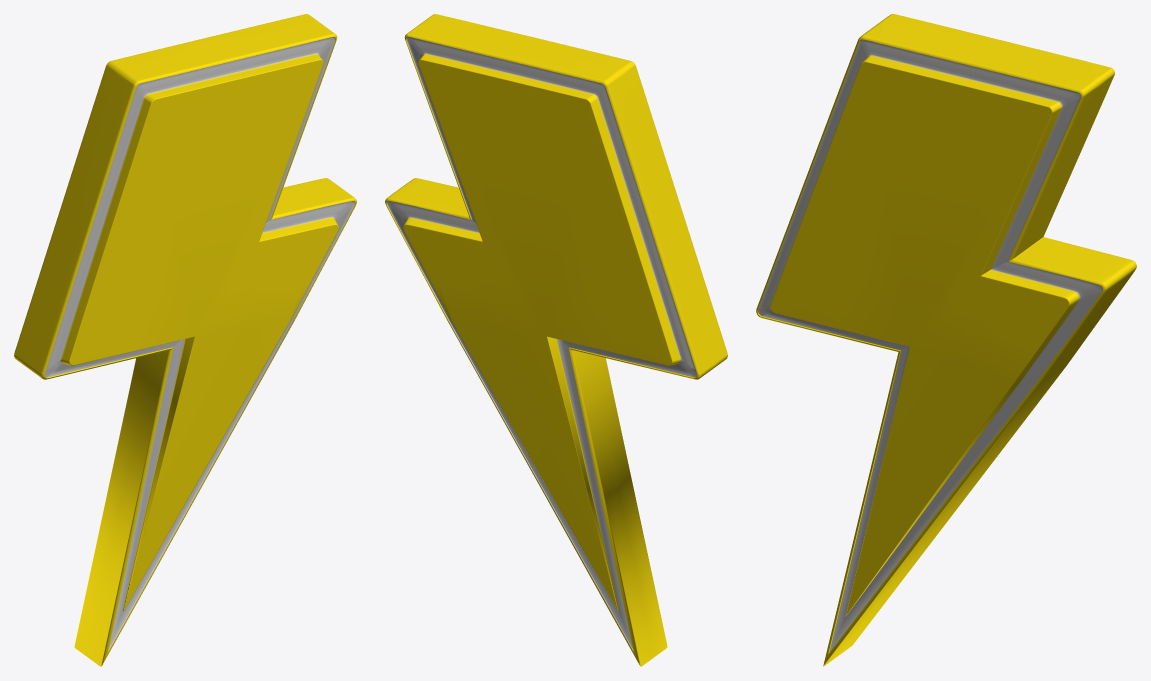
Rendered from Lightning bolt export 1.fbx.
3 renders of one model, left to right at view 1: azimuth 30°, elevation 25°; view 2: azimuth 150°, elevation 25°; view 3: azimuth 330°, elevation 25°, orthographic. The views are drawn at different scales.
Parts seen in each view (by area): view 1: pPlane1; view 2: pPlane1; view 3: pPlane1.
Part boxes in pixels (<box>): pPlane1: <box>14,14,356,666</box>; pPlane1: <box>385,14,727,666</box>; pPlane1: <box>756,14,1136,666</box>.
Bounding box in the file's own units: 492 × 860 × 116.
